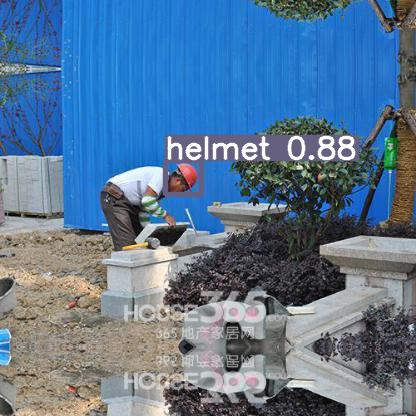helmet: (165, 160, 201, 194)
